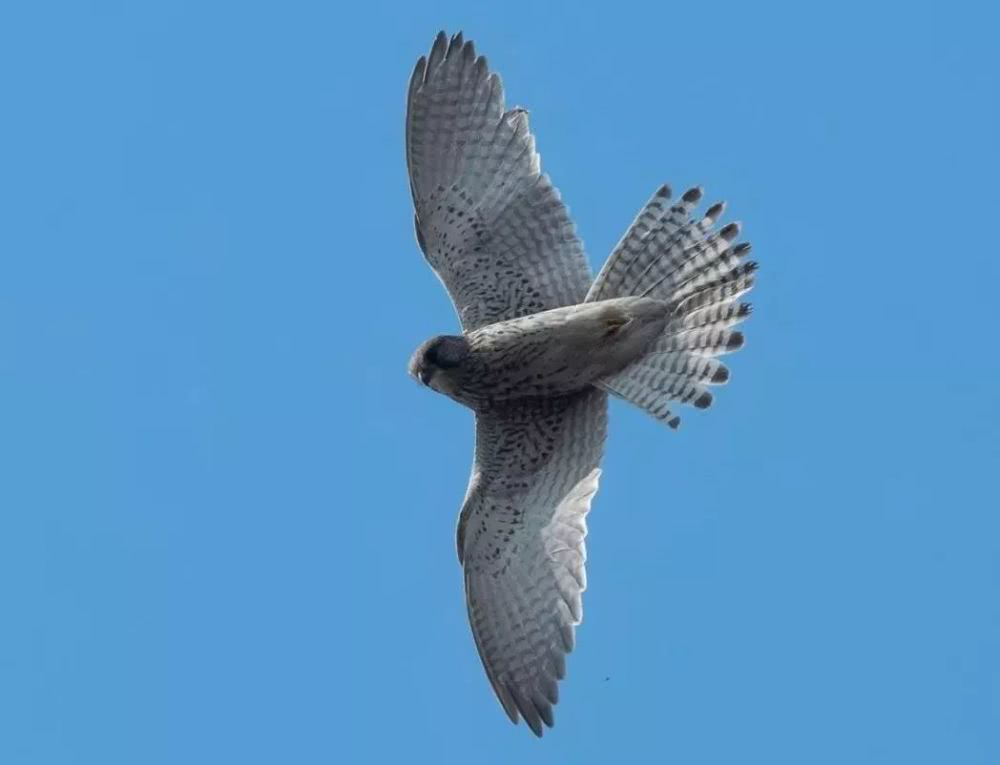bird: (402, 32, 761, 741)
